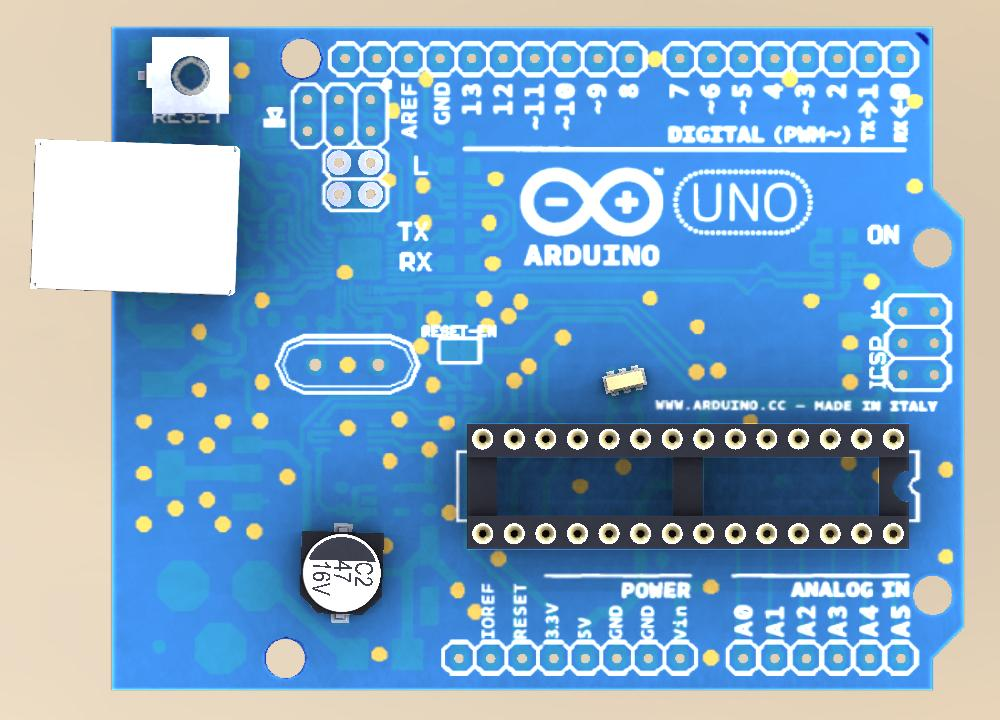16MHz Crystal: (600, 361, 653, 397)
47uF CAP: (297, 519, 390, 624)
USB: (29, 136, 242, 302)
